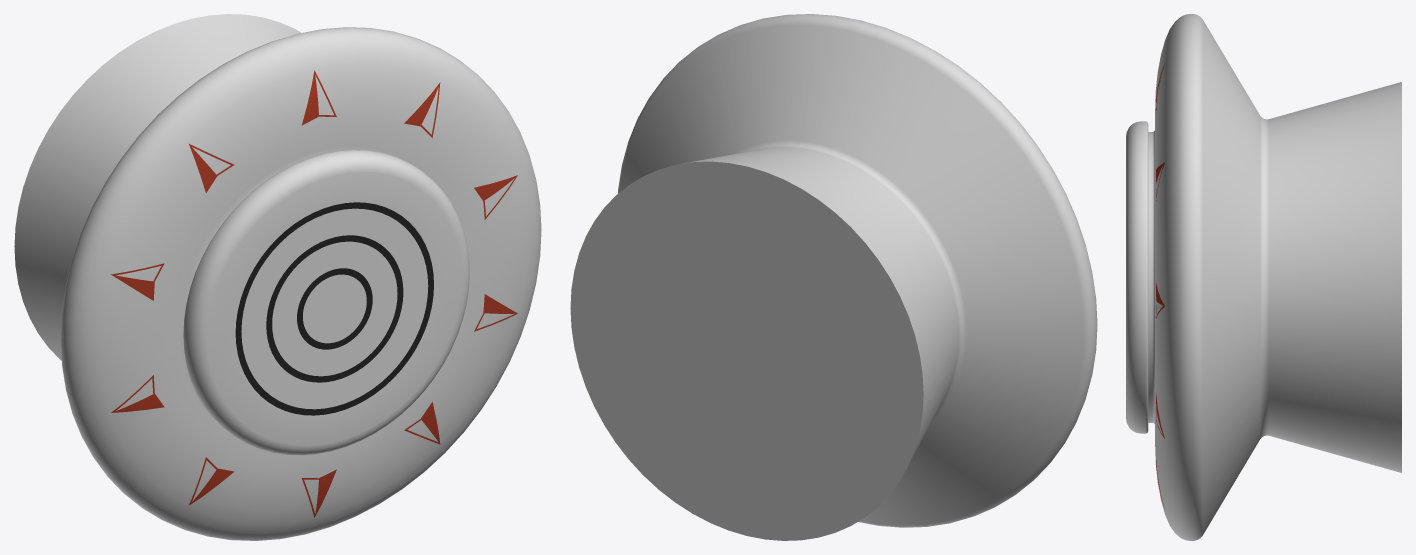
Rendered from bumper.glb.
The picture shows the model from 3 angles, left to right: view 1: azimuth 30°, elevation 25°; view 2: azimuth 150°, elevation 25°; view 3: azimuth 270°, elevation 25°; orthographic projection. The views are drawn at different scales.
Visible parts, largest first — view 1: Bumper; view 2: Bumper; view 3: Bumper.
Part boxes in pixels (bbox=[...]): Bumper: bbox=[14, 14, 541, 540]; Bumper: bbox=[570, 14, 1097, 540]; Bumper: bbox=[1126, 14, 1401, 540].
Bounding box in the file's own units: 0.9946 × 0.9946 × 0.5208.
